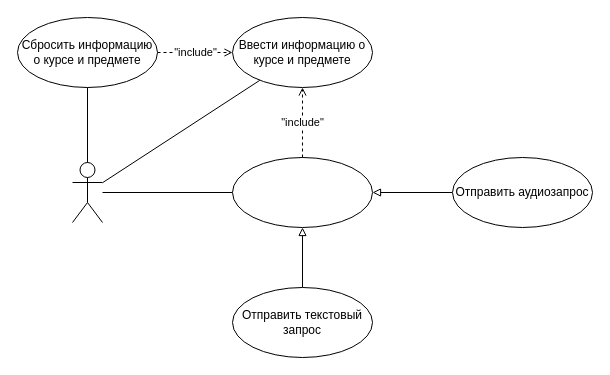
This 610x375 diagram has some shape labels left out. Here are the shapes that lost their labels. From the top down, the centre of each, then its label:
At point (87, 192): "Студент".
At point (302, 192): "Отправить запрос".
